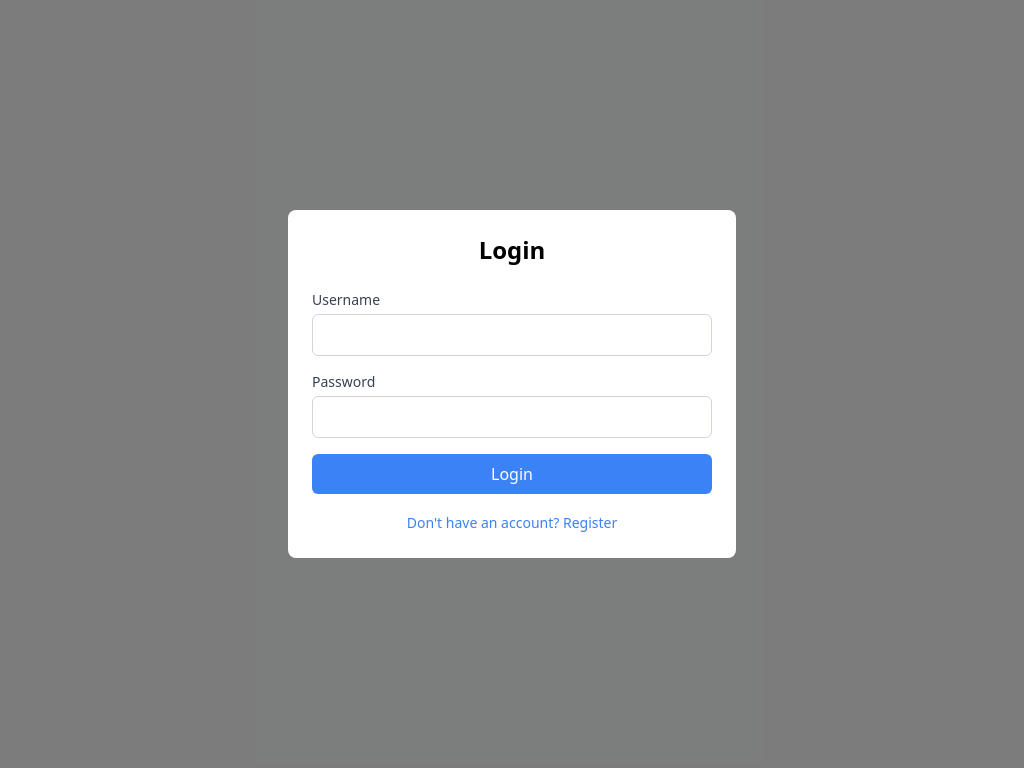
Test: AuthModal › shows error message from thrown error (JSON message)
Type "user4" into the field labelled "Username" at (512, 335), box [312,314,712,356]
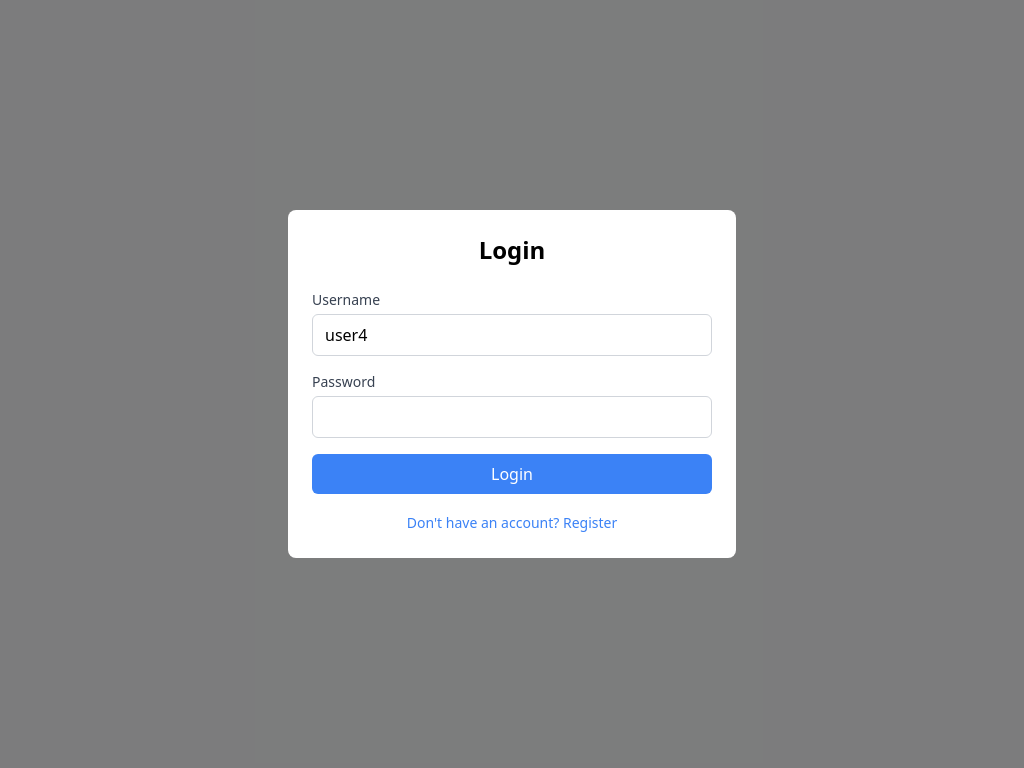
Type "pass4" into the password field labelled "Password" at (512, 417), box [312,396,712,438]
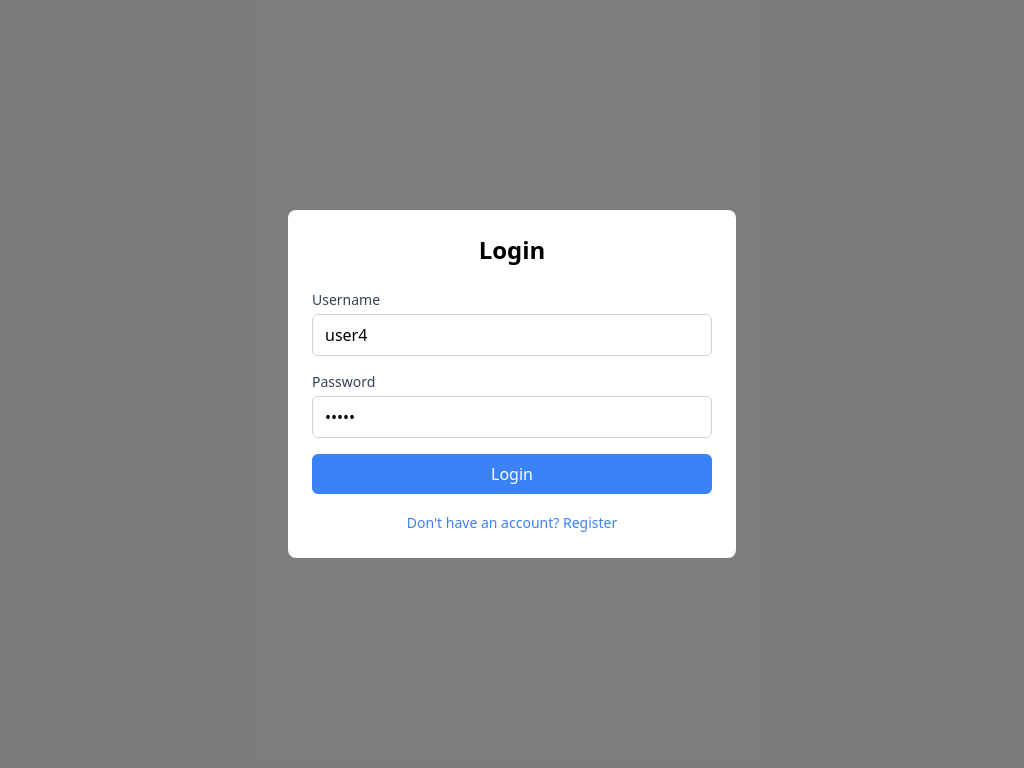
Click the button "Login" at (512, 474), box [312,454,712,494]
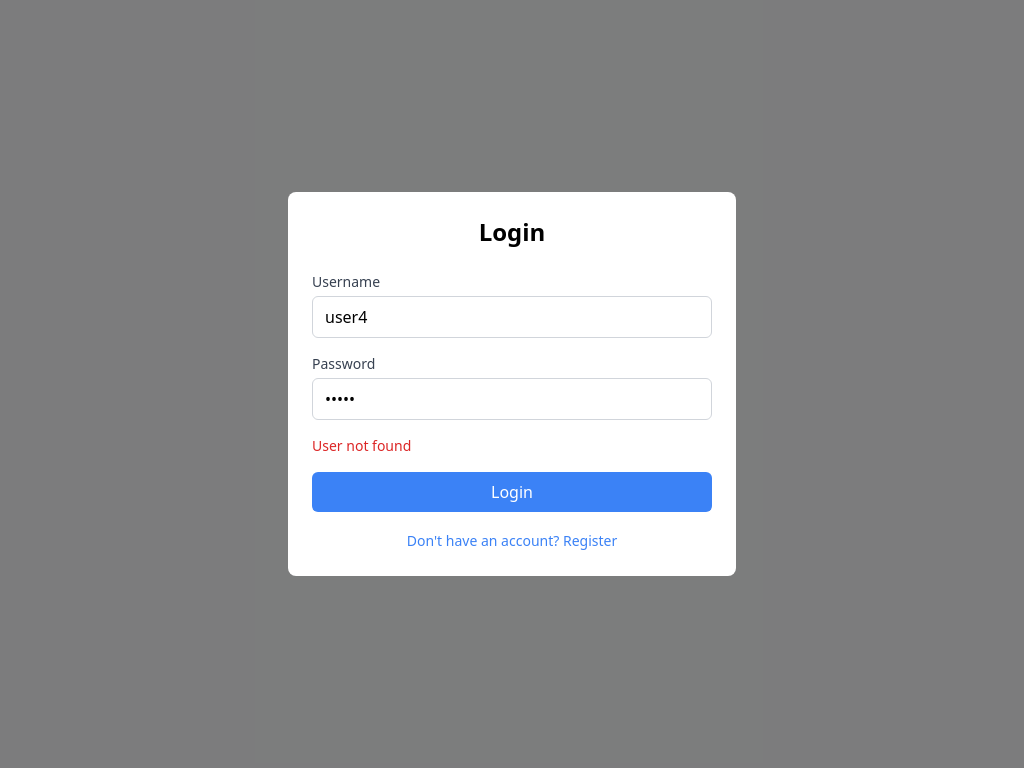
expect the text "User not found" is shown: met, box [312,436,411,455]
